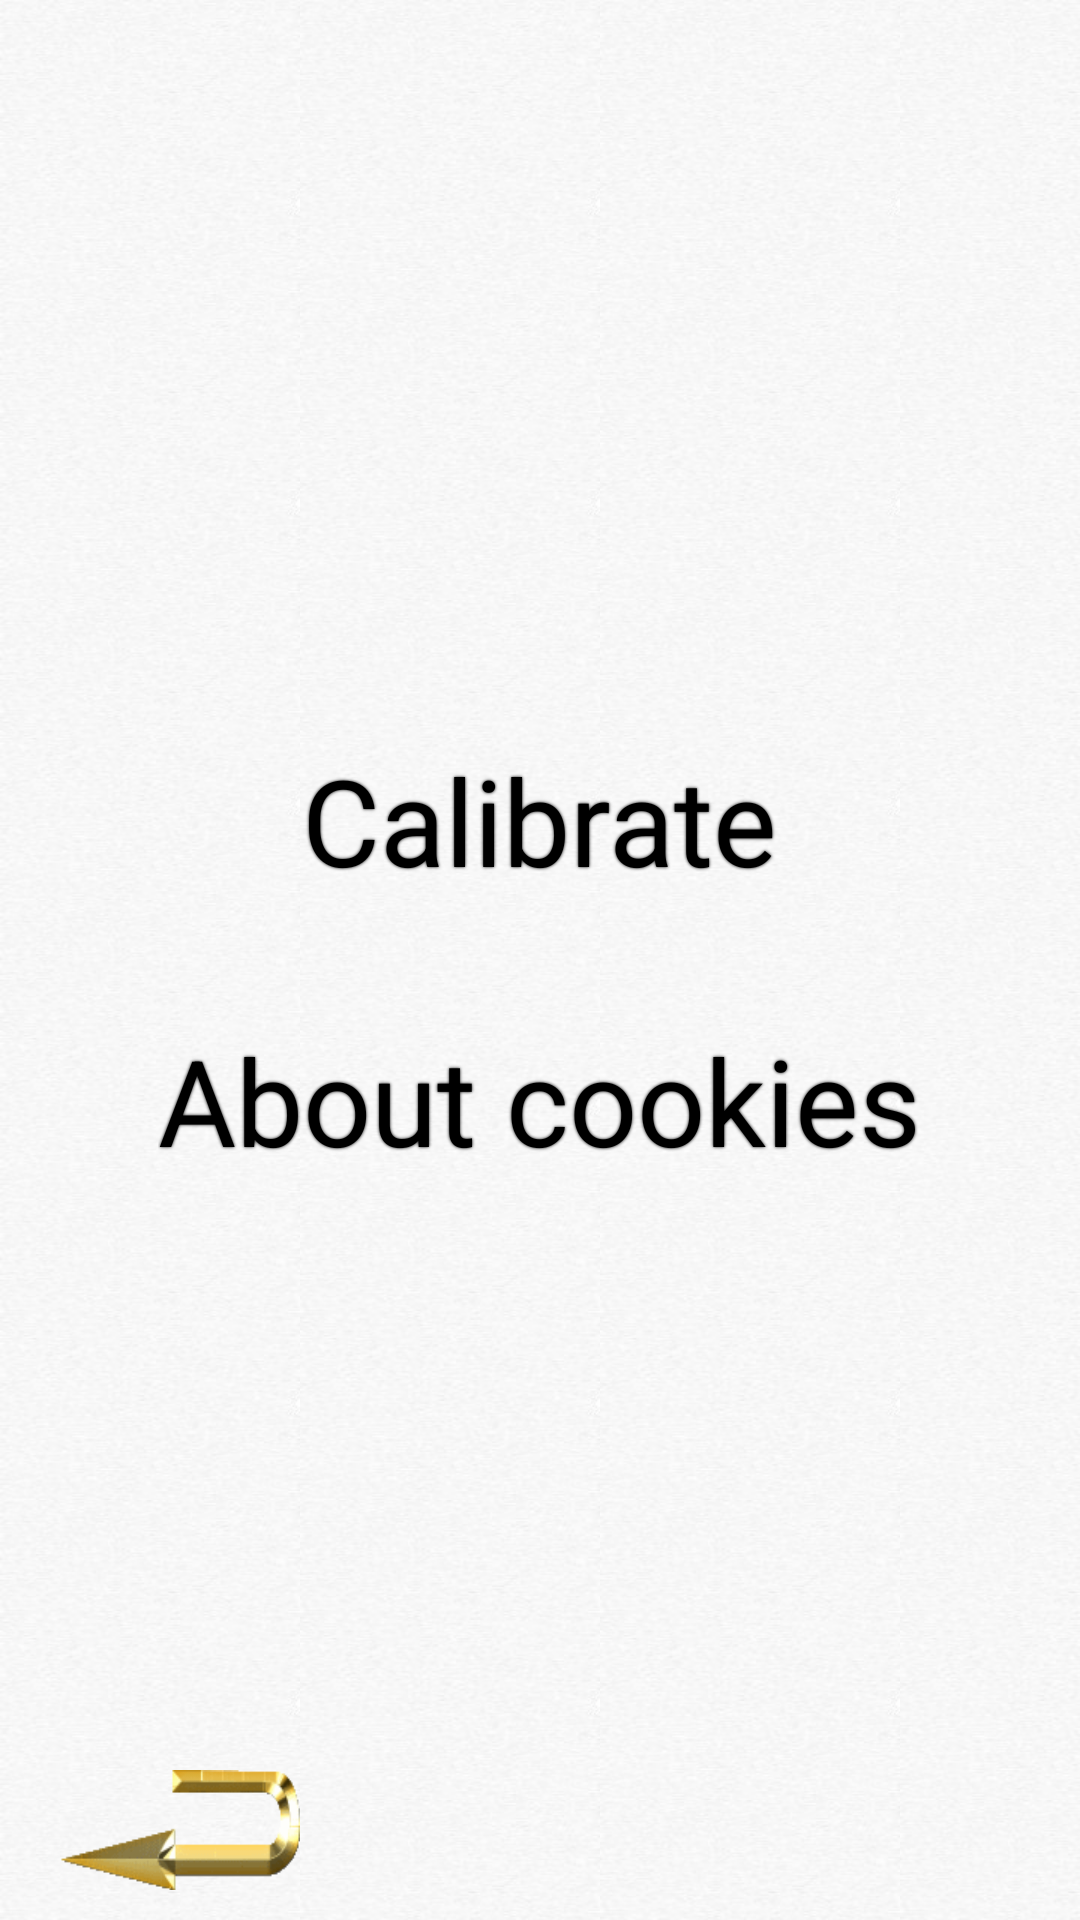

Named icons in this screenshot (1080px x 1920px) and their centers, point (x, y):
back: point (180, 1830)
